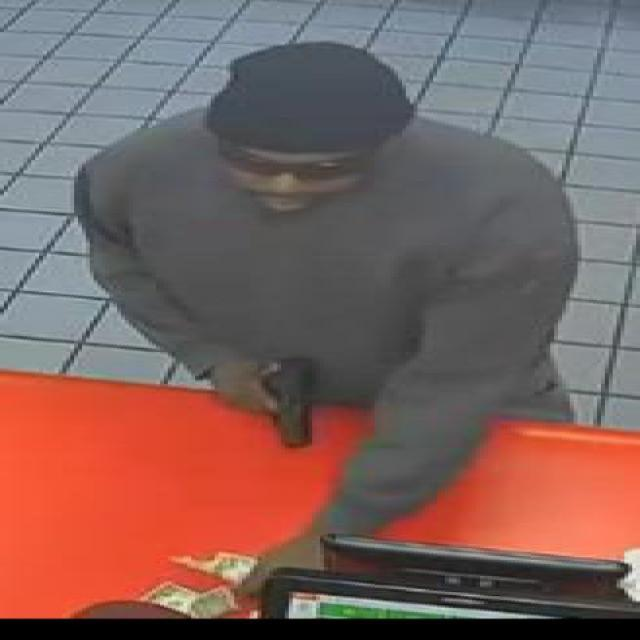weapon: (253, 354, 315, 448)
